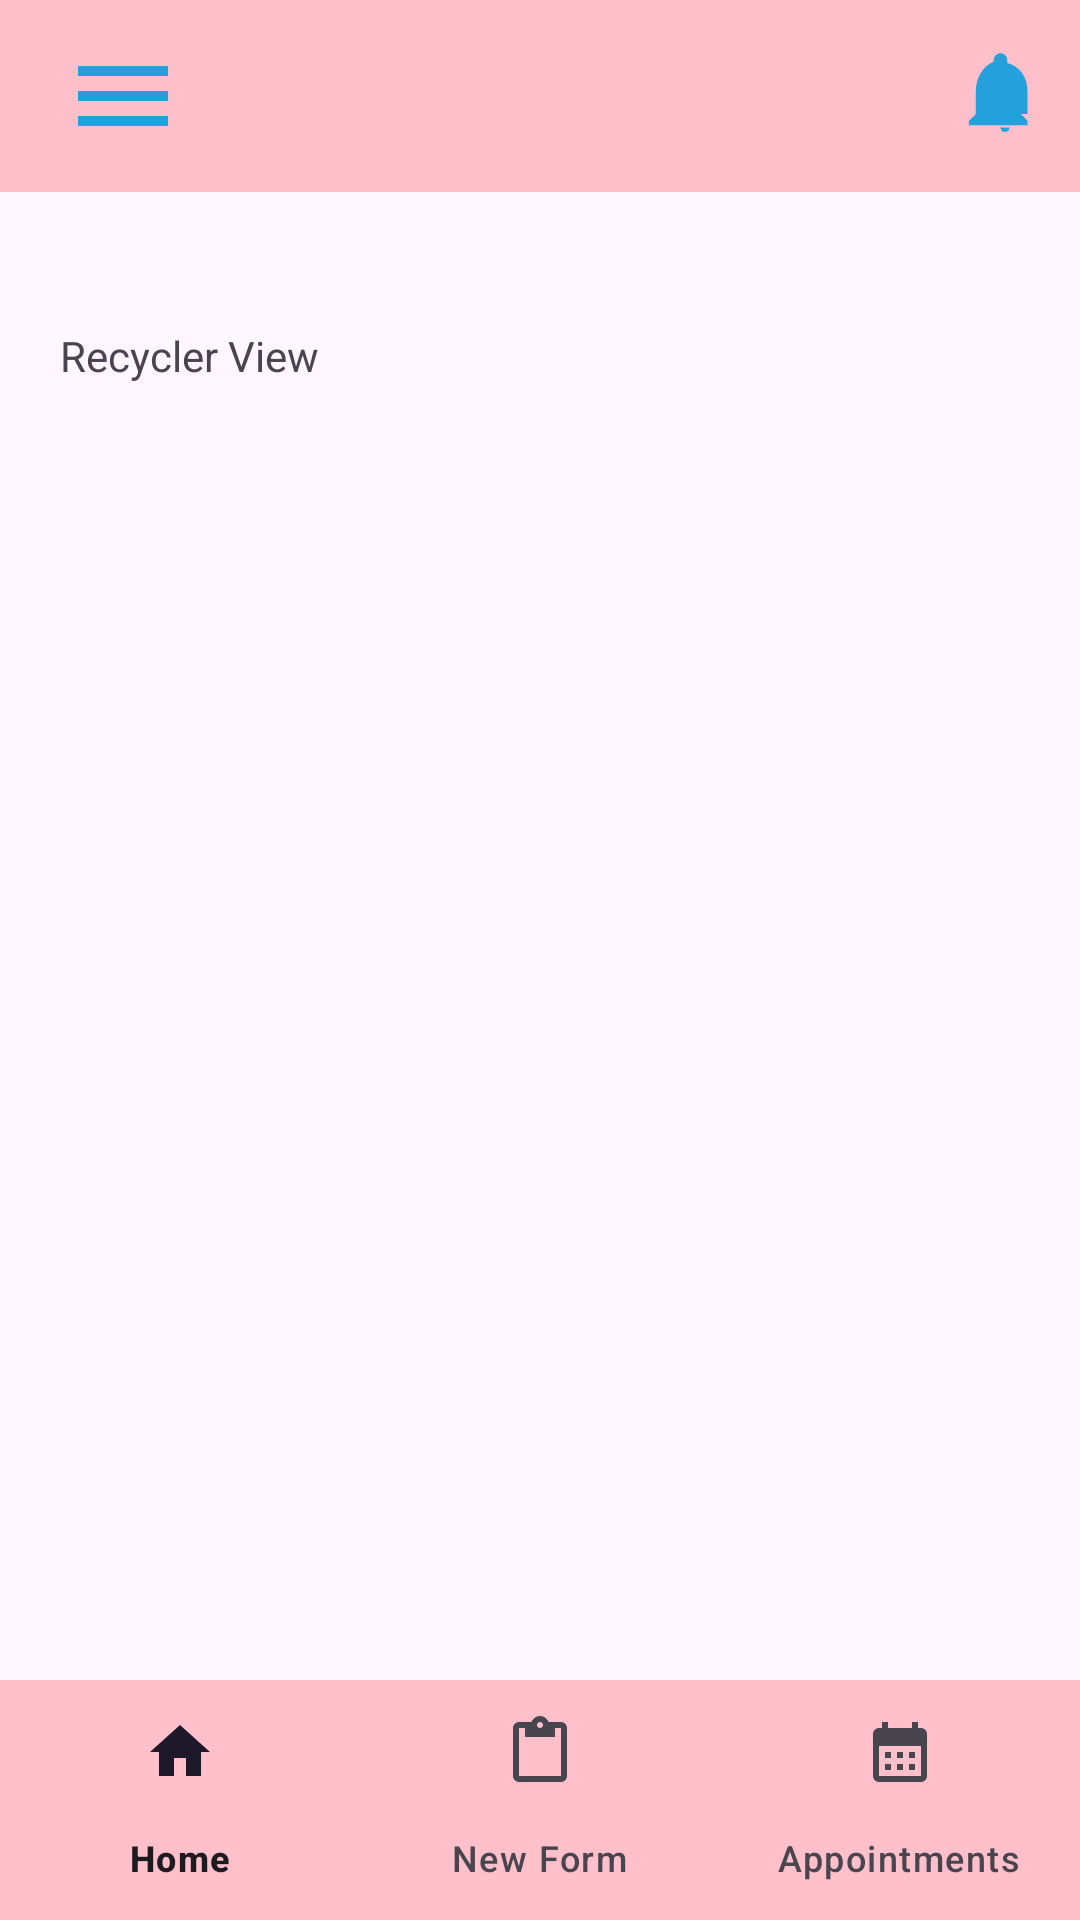

Icons on this 1080*1920 Android screen, each with the point to tap as point (x, y):
menu icon: point (123, 96)
notifications: point (998, 92)
